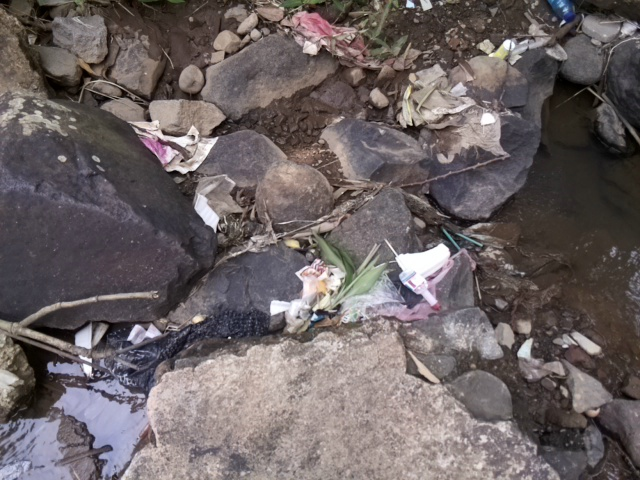Sampah_Plastik: (297, 247, 473, 327), (275, 10, 390, 70), (128, 120, 215, 174)
Sampah_Styrofoam: (392, 241, 454, 282), (192, 192, 224, 236), (72, 323, 109, 346), (490, 38, 516, 62)
